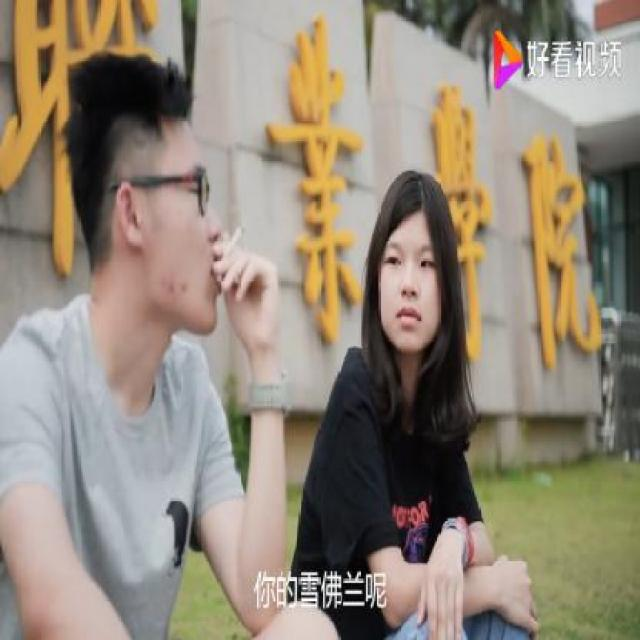smoke: (214, 214, 249, 275)
